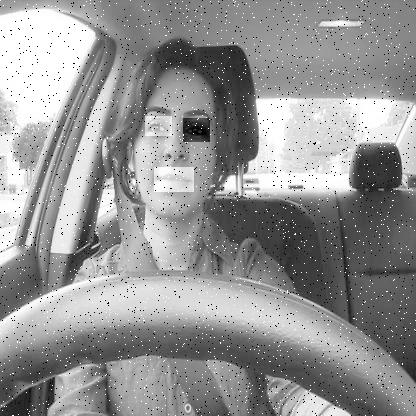seatbelt: (114, 16, 245, 416)
